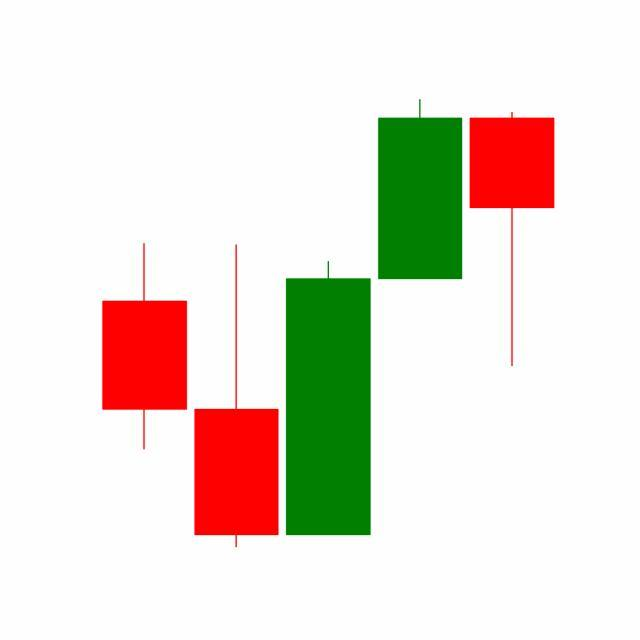Marubozu: (374, 97, 468, 281)
